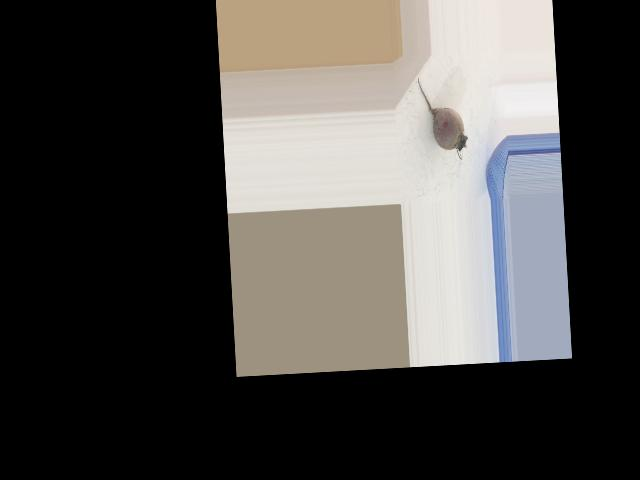beet: (416, 75, 468, 161)
